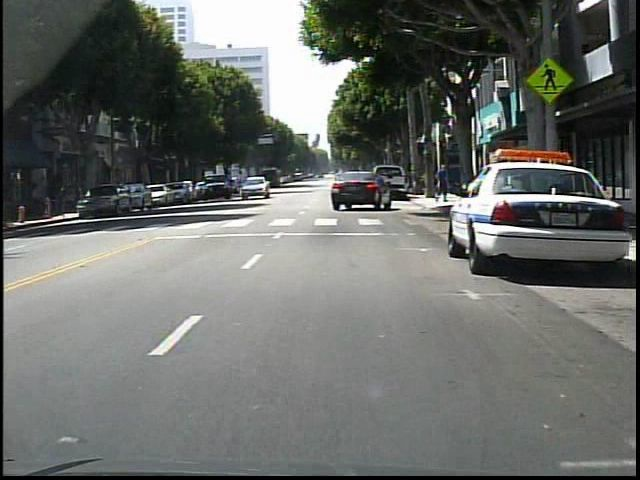person: (432, 162, 455, 206)
